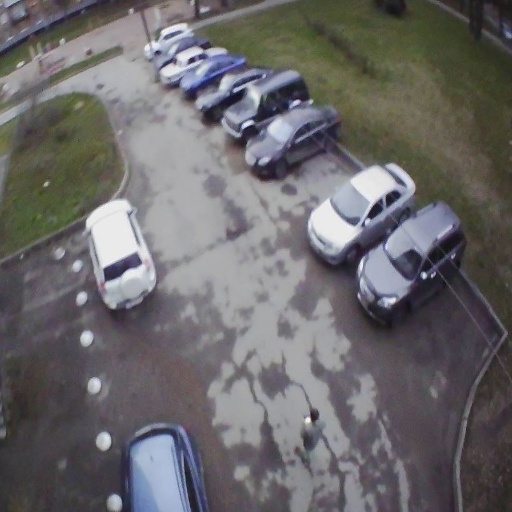Car: (354, 202, 467, 325), (309, 160, 417, 268), (83, 194, 158, 311), (116, 419, 209, 510), (239, 105, 337, 179), (220, 67, 310, 134), (188, 67, 272, 121), (179, 54, 248, 98), (158, 43, 223, 85), (151, 35, 213, 71), (141, 17, 190, 57)
